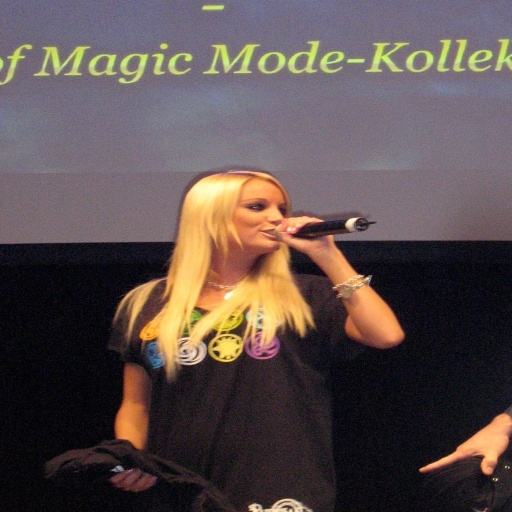hand: (432, 416, 512, 486), (272, 212, 341, 256), (102, 465, 163, 495)
